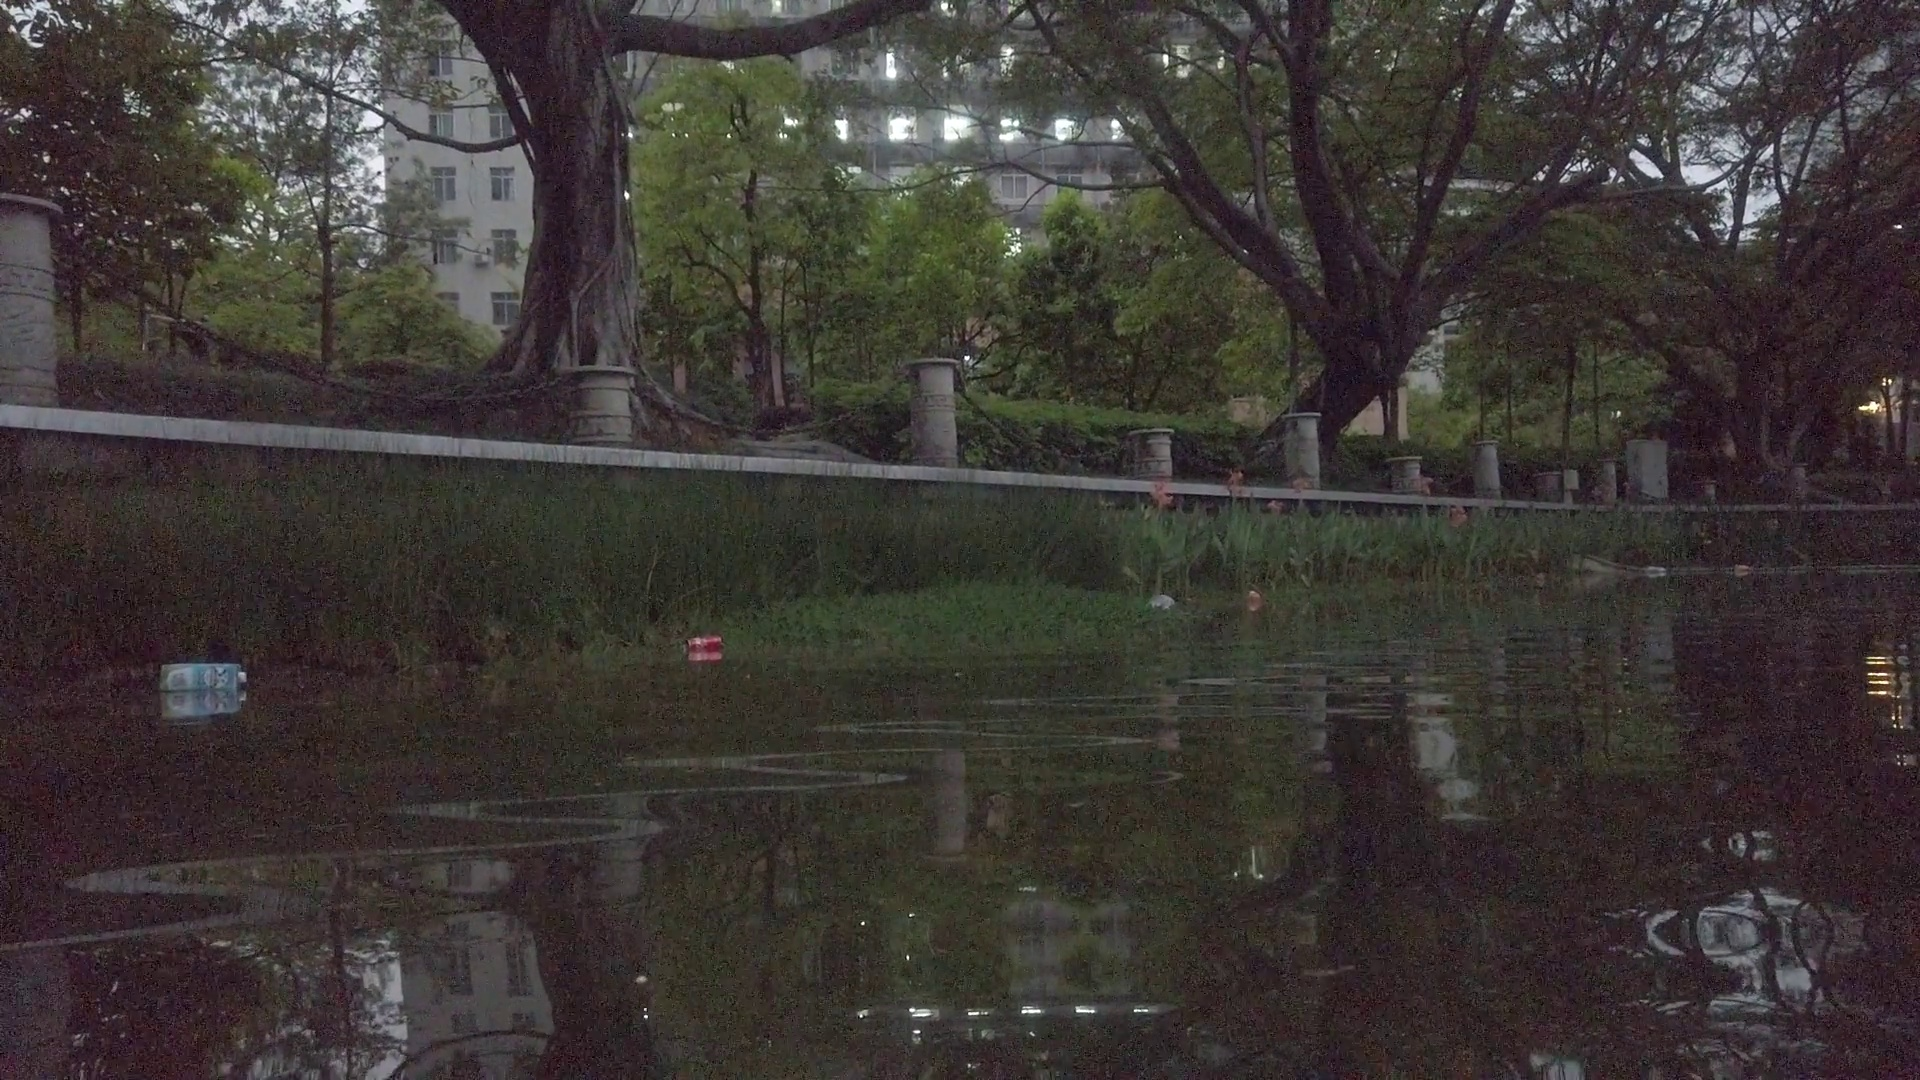bottle: (1142, 589, 1176, 624), (687, 636, 724, 654), (1642, 558, 1665, 580), (1242, 588, 1263, 611), (1726, 560, 1754, 576)
carton: (156, 662, 247, 694)
